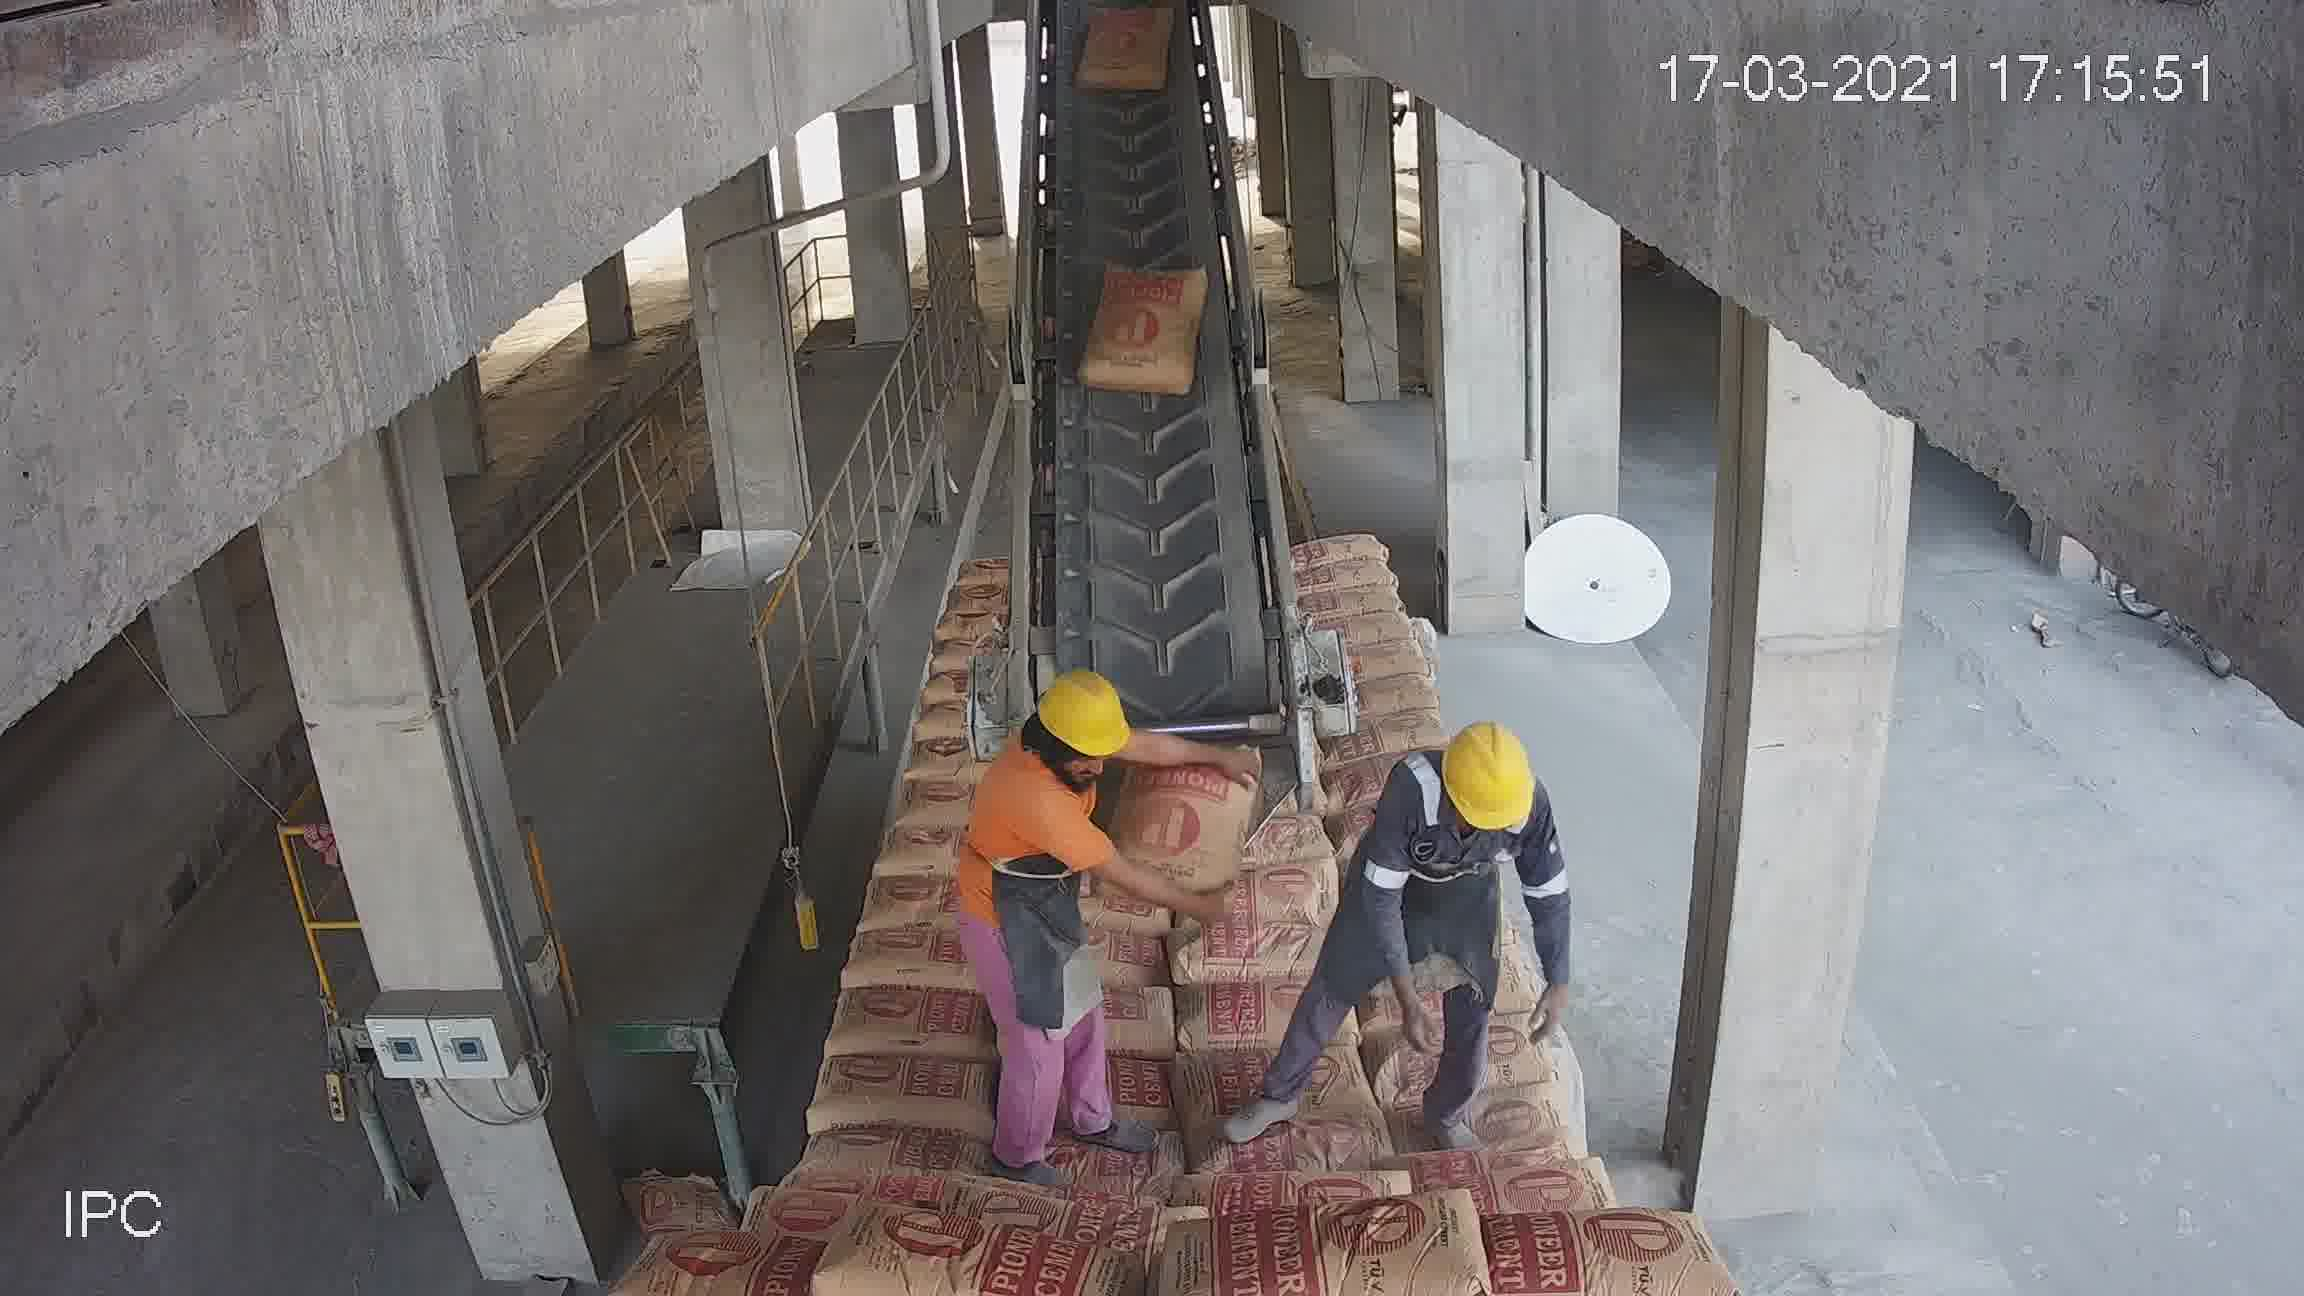bag: (1078, 264, 1206, 386), (1076, 9, 1171, 100)
bag_h: (1163, 1214, 1473, 1296), (1465, 1203, 1726, 1294), (1116, 739, 1245, 907), (1166, 1033, 1370, 1131), (817, 1225, 1101, 1294), (786, 1109, 984, 1195), (631, 1225, 851, 1296), (828, 1059, 1027, 1136), (820, 973, 987, 1055), (1168, 911, 1313, 991), (829, 927, 965, 991), (1301, 589, 1407, 628), (1299, 555, 1397, 595), (1299, 536, 1393, 562)
belt: (1022, 28, 1301, 855)
